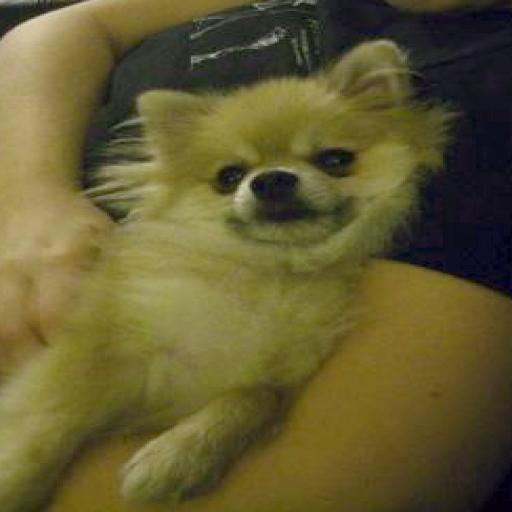dog_face: (118, 53, 453, 284)
